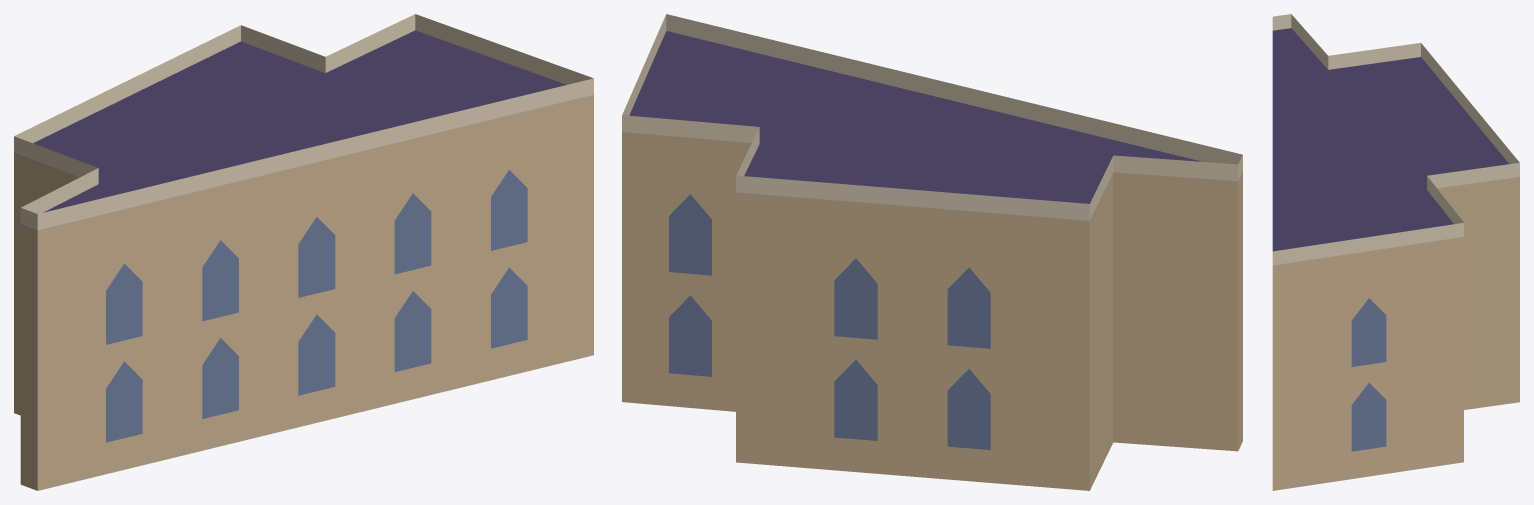
File: b-137-day.glb
3 views of the same model, side by side, from view 1: azimuth 30°, elevation 25°; view 2: azimuth 150°, elevation 25°; view 3: azimuth 270°, elevation 25° (orthographic). The views are drawn at different scales.
Parts seen in each view (by area): view 1: campus/b-137-day-0; view 2: campus/b-137-day-0; view 3: campus/b-137-day-0.
Part boxes in pixels (<box>): campus/b-137-day-0: <box>14,14,593,490</box>; campus/b-137-day-0: <box>622,14,1242,490</box>; campus/b-137-day-0: <box>1272,14,1519,490</box>.
Size of the model in its own units: 19.87 by 9.35 by 8.8.
